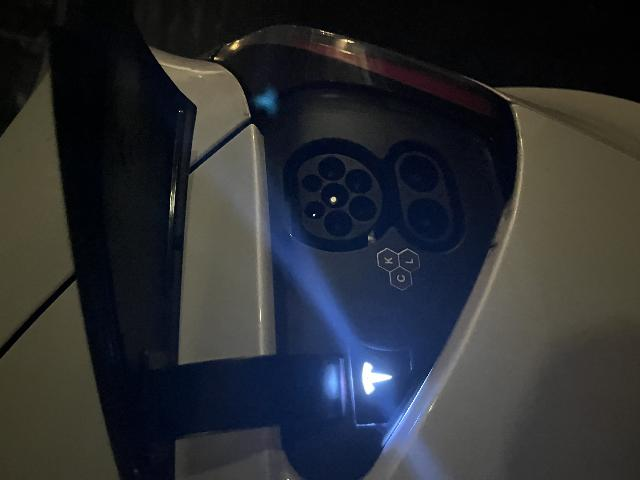inlet: (240, 297, 326, 382)
inlet-above-left: (261, 304, 279, 325)
inlet-above-right: (287, 301, 306, 322)
inlet-below-left: (258, 348, 284, 377)
inlet-below-right: (286, 345, 311, 372)
inlet-circle: (272, 320, 297, 350)
inlet-circle-left: (243, 323, 270, 352)
inlet-circle-right: (299, 317, 324, 346)
inlet-minus: (287, 399, 325, 439)
inlet-plus: (241, 407, 282, 448)
